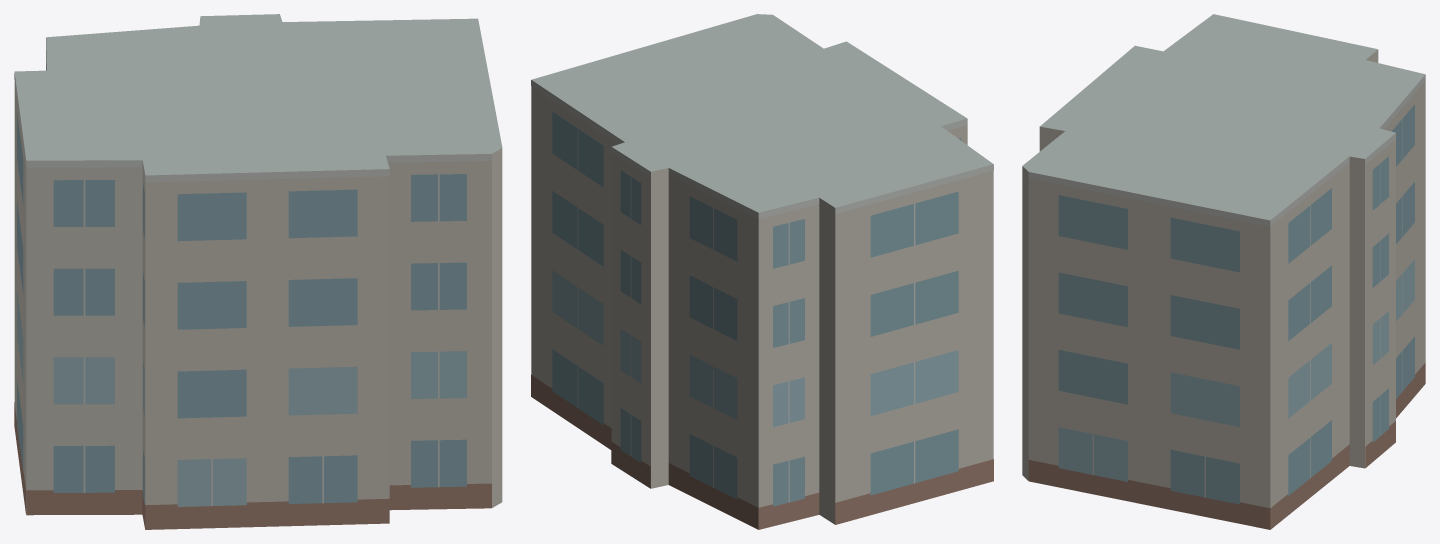
The model's file is survey-upis-32994061.glb.
3 renders of one model, left to right at view 1: azimuth 30°, elevation 25°; view 2: azimuth 150°, elevation 25°; view 3: azimuth 270°, elevation 25°, orthographic. The views are drawn at different scales.
Parts seen in each view (by area): view 1: survey-upis-32994061.tmp; view 2: survey-upis-32994061.tmp; view 3: survey-upis-32994061.tmp.
Boxes of the visible parts, <box> form: survey-upis-32994061.tmp: <box>14,14,502,529</box>; survey-upis-32994061.tmp: <box>531,14,993,529</box>; survey-upis-32994061.tmp: <box>1022,14,1425,529</box>.
Size of the model in its own units: 17.46 by 12.2 by 14.42.
